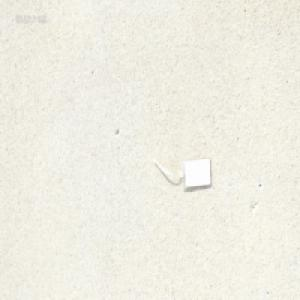LuggageTag: (152, 155, 211, 190)
